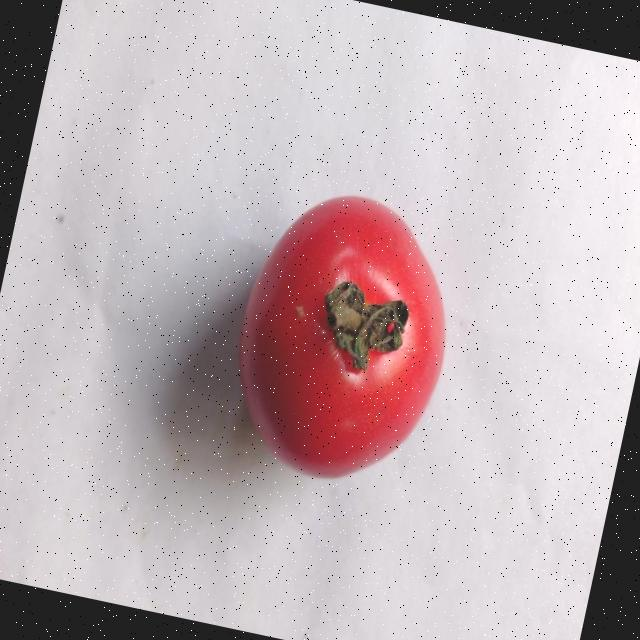Ripe: (202, 167, 480, 504)
